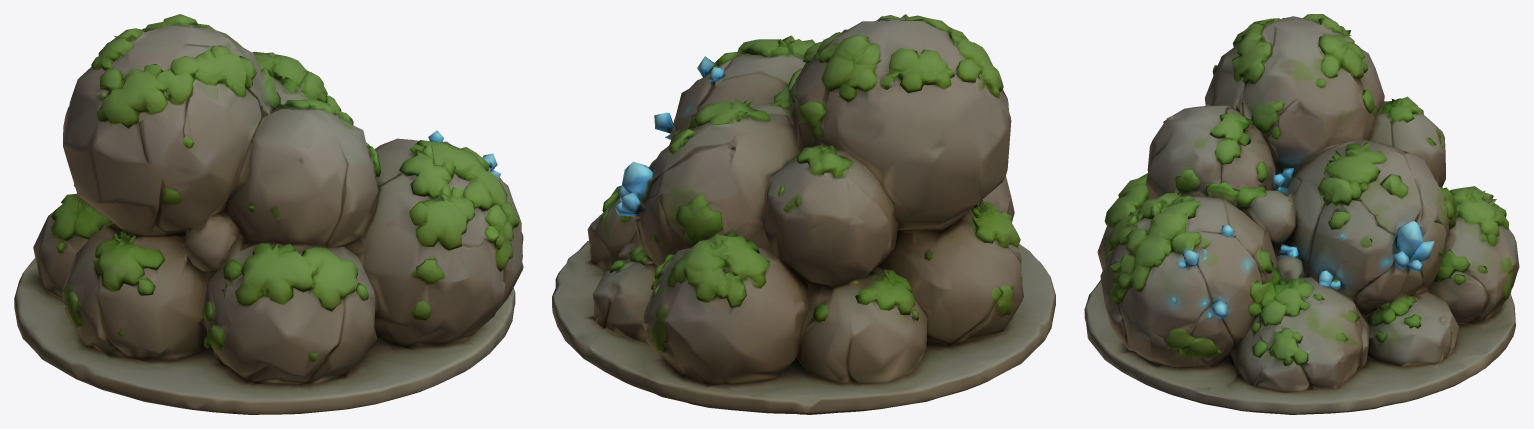
The model's file is Rock 2.fbx.
The picture shows the model from 3 angles, left to right: view 1: azimuth 30°, elevation 25°; view 2: azimuth 150°, elevation 25°; view 3: azimuth 270°, elevation 25°; orthographic projection. The views are drawn at different scales.
Parts seen in each view (by area): view 1: tripo_node_2683e0f1; view 2: tripo_node_2683e0f1; view 3: tripo_node_2683e0f1.
Part boxes in pixels (x1,y1,x2,y2): tripo_node_2683e0f1: (14, 14, 523, 414); tripo_node_2683e0f1: (552, 14, 1055, 414); tripo_node_2683e0f1: (1084, 14, 1519, 414).
Size of the model in its own units: 0.9797 by 0.6482 by 0.9794.
